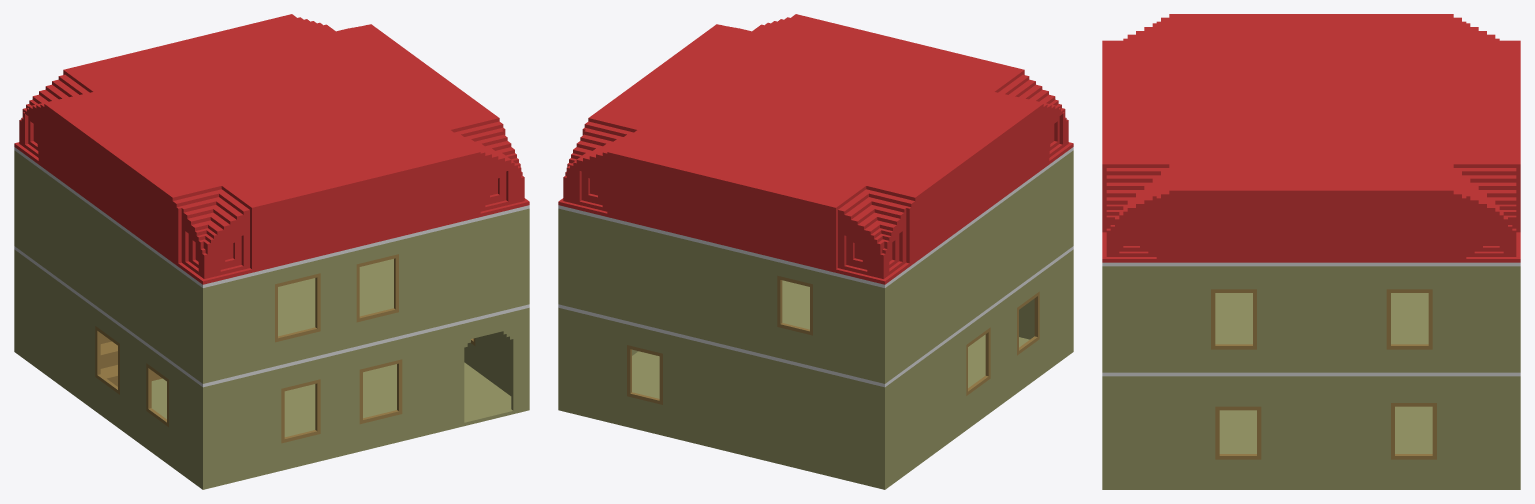
File: house.obj
3 views of the same model, side by side, from view 1: azimuth 30°, elevation 25°; view 2: azimuth 150°, elevation 25°; view 3: azimuth 270°, elevation 25° (orthographic). The views are drawn at different scales.
Bounding box in the file's own units: 100 × 79 × 100.
1 material, 1 textured.
